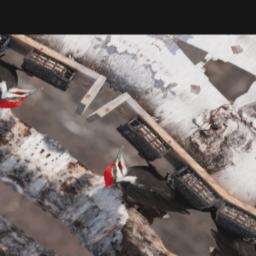Woodpecker: (88, 138, 210, 236)
